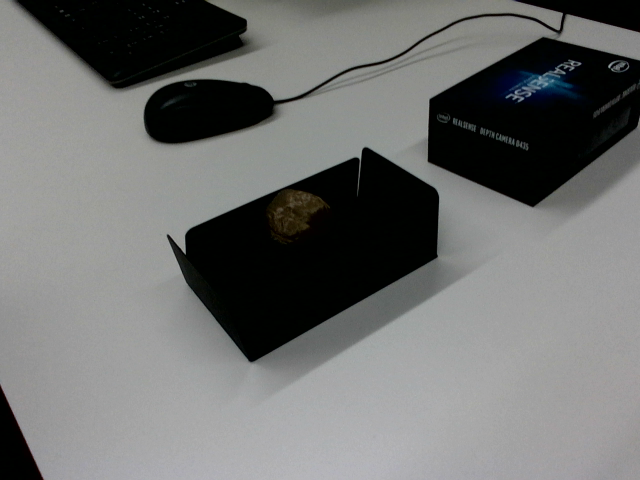walnut: (259, 178, 336, 248)
